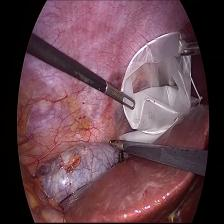Specimen Bag: (123, 38, 190, 141)
